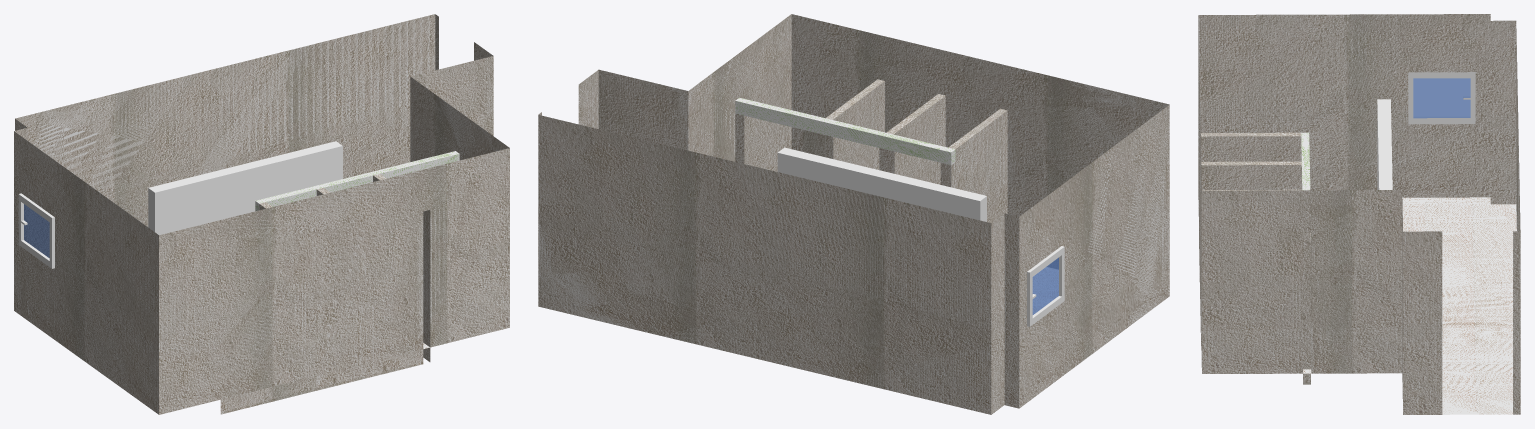
The model's file is COM040.obj.
3 views of the same model, side by side, from view 1: azimuth 30°, elevation 25°; view 2: azimuth 150°, elevation 25°; view 3: azimuth 270°, elevation 25° (orthographic). The views are drawn at different scales.
Visible parts, largest first — view 1: Mesh4 COM040 Model, Mesh1 ventana3_1 COM040 Model; view 2: Mesh4 COM040 Model, Mesh1 ventana3_1 COM040 Model; view 3: Mesh4 COM040 Model, Mesh1 ventana3_1 COM040 Model.
Part boxes in pixels (left/top/right/bottom): Mesh4 COM040 Model: left=14, top=14, right=509, bottom=414; Mesh1 ventana3_1 COM040 Model: left=18, top=193, right=54, bottom=268; Mesh4 COM040 Model: left=538, top=14, right=1169, bottom=414; Mesh1 ventana3_1 COM040 Model: left=1027, top=246, right=1064, bottom=326; Mesh4 COM040 Model: left=1198, top=14, right=1520, bottom=414; Mesh1 ventana3_1 COM040 Model: left=1408, top=72, right=1475, bottom=124.
Bounding box in the file's own units: 7.68 × 3.25 × 4.77.
Materials: 6 (2 with a texture image).
